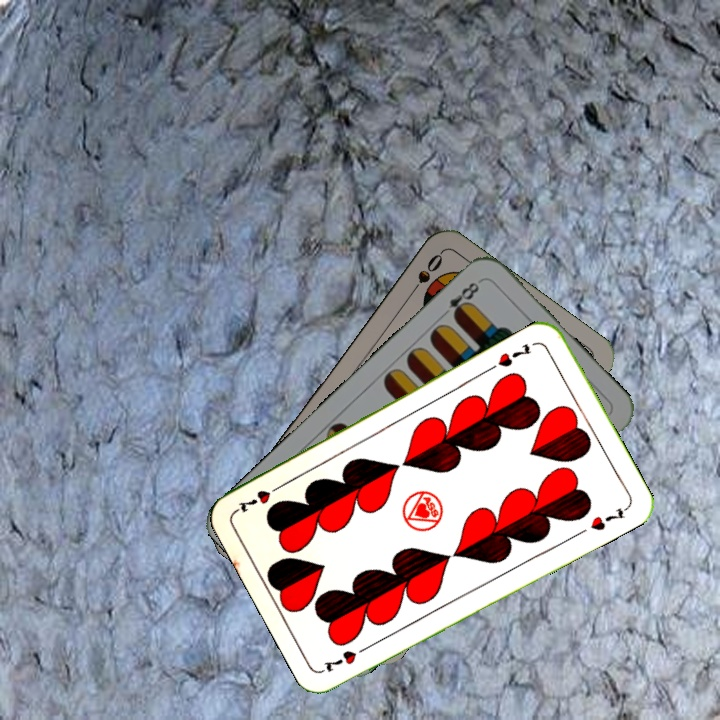E8: (437, 276, 484, 322)
H7: (319, 640, 374, 675), (494, 339, 534, 370)
SO: (404, 249, 445, 301)
